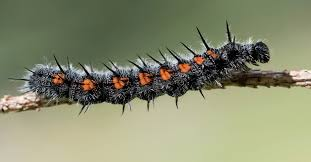Caterpillar: (22, 34, 274, 114)
